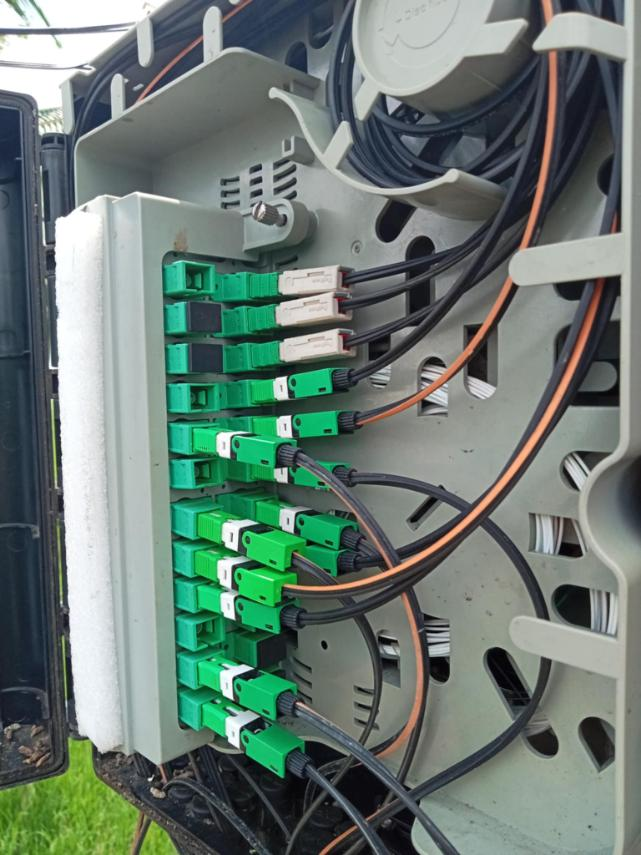no dust cap: (193, 613, 224, 653), (181, 260, 215, 294), (186, 383, 218, 414), (192, 458, 222, 486)
occupied: (200, 695, 329, 798), (242, 521, 374, 588), (196, 656, 307, 732), (195, 508, 315, 575), (195, 580, 317, 645), (254, 497, 374, 561), (193, 548, 301, 615), (190, 423, 312, 478), (248, 359, 357, 406), (246, 453, 370, 494), (252, 406, 370, 446), (249, 326, 358, 369), (249, 292, 356, 335), (248, 262, 360, 296)
vacant: (252, 593, 292, 636), (253, 634, 289, 671), (186, 343, 226, 376), (184, 301, 222, 335), (255, 669, 287, 708)
